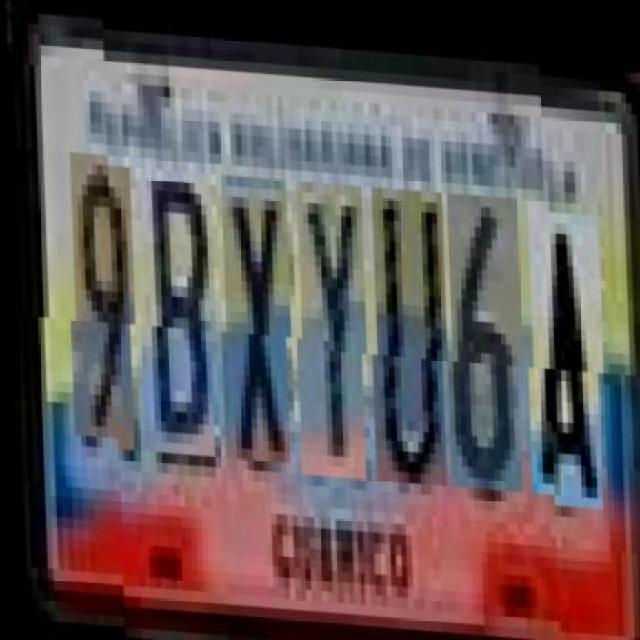6: (444, 186, 524, 485)
9: (69, 161, 136, 448)
a: (526, 191, 606, 489)
b: (138, 166, 217, 454)
u: (370, 181, 448, 479)
x: (219, 172, 293, 459)
y: (294, 175, 368, 474)
